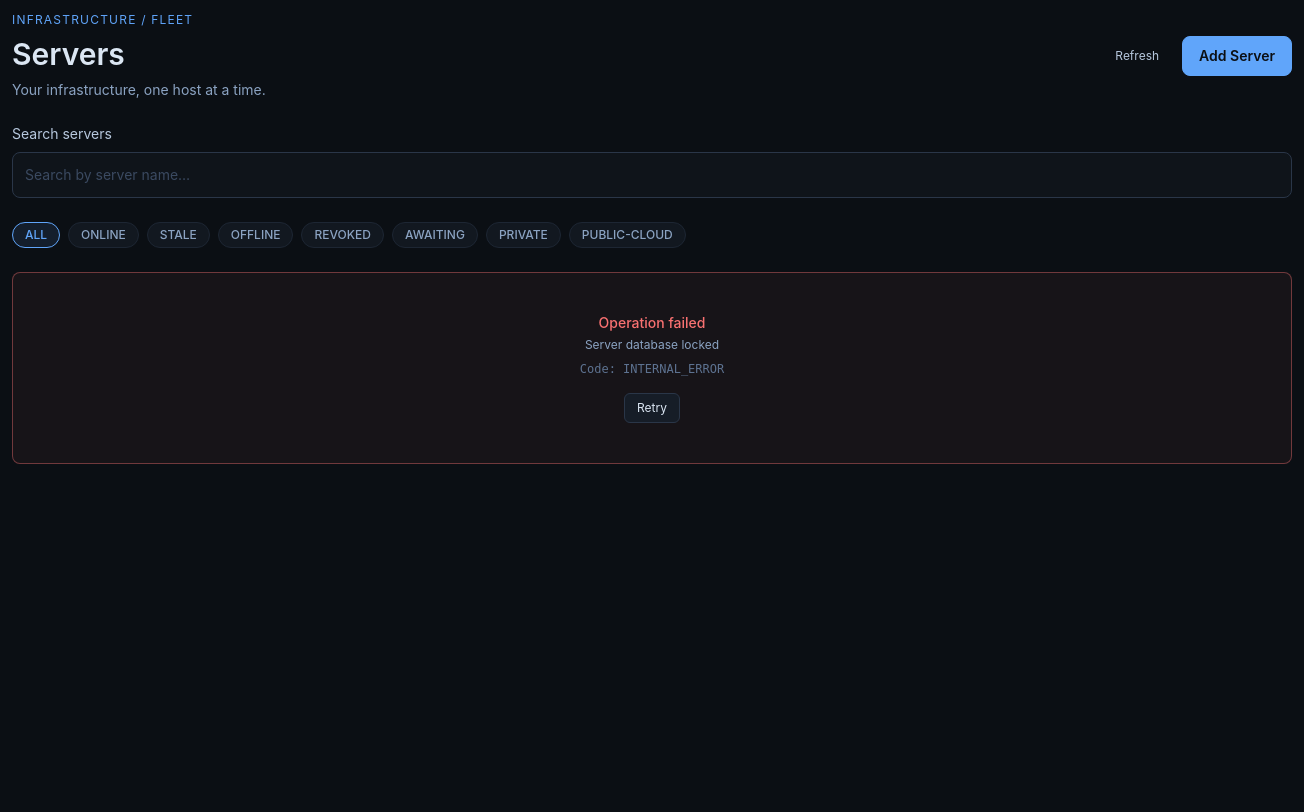
Test: Servers view (fleet + filters + awaiting rows) › handles API failure by showing error panel with retry
This screenshot has width=1304, height=812.
Expected: the message "Operation failed Server database locked Code: INTERNAL_ERROR Retry" is shown, top-left (12, 272), bottom-right (1292, 464)
Click the button "Retry" at (652, 408), box top-left (624, 393), bottom-right (680, 423)
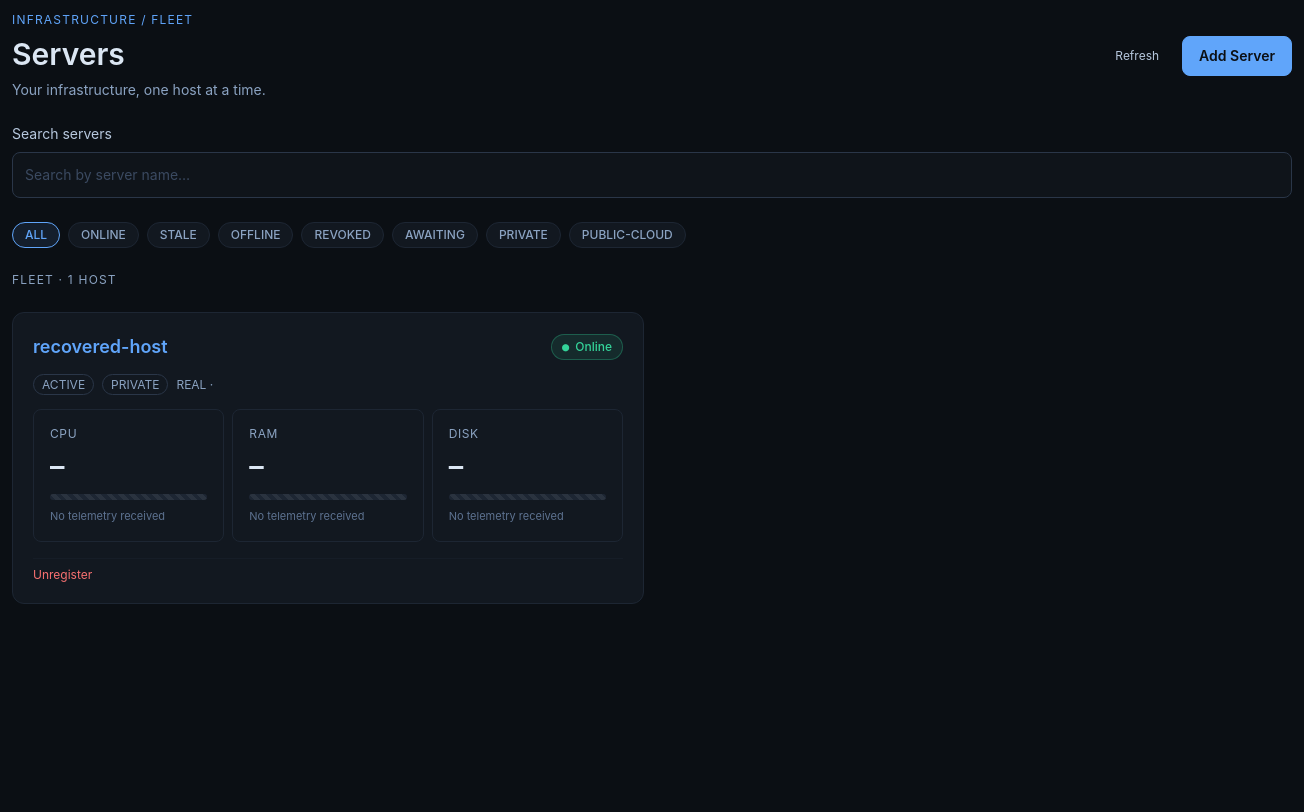
Expected: the link "recovered-host" is shown, top-left (33, 333), bottom-right (168, 361)
